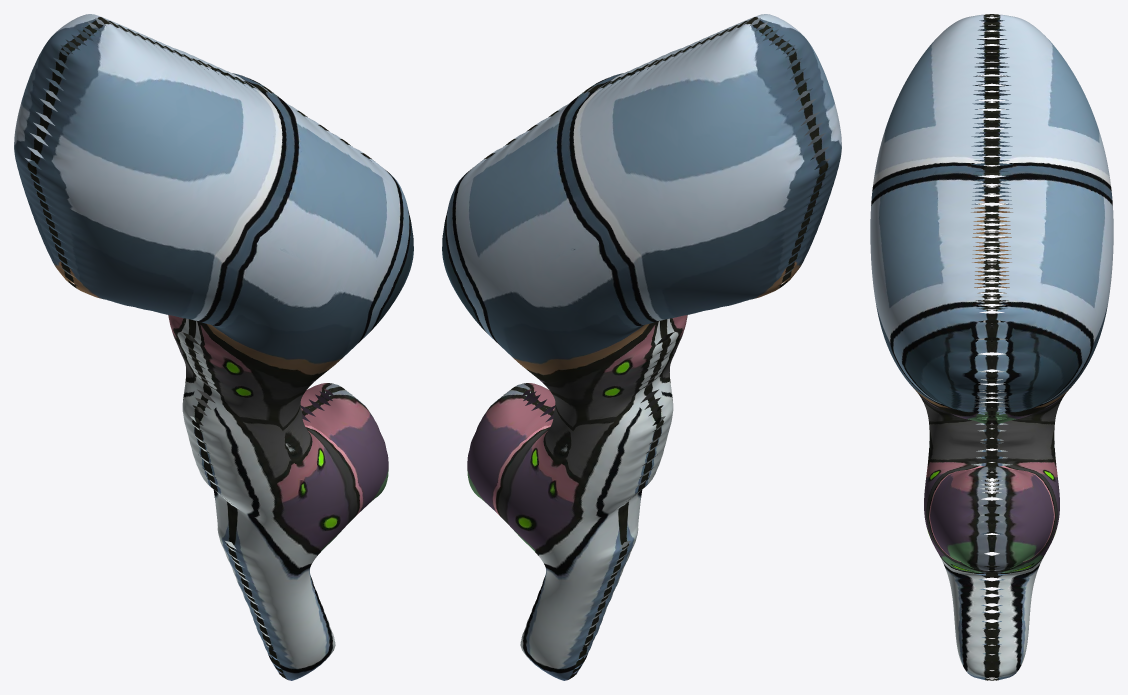
File: angled_fixture.glb
The picture shows the model from 3 angles, left to right: view 1: azimuth 30°, elevation 25°; view 2: azimuth 150°, elevation 25°; view 3: azimuth 270°, elevation 25°; orthographic projection. The views are drawn at different scales.
Visible parts, largest first — view 1: angled_fixture; view 2: angled_fixture; view 3: angled_fixture.
Boxes of the visible parts, box(x1,y1,x2,y2) form: angled_fixture: box(14, 14, 413, 680); angled_fixture: box(442, 14, 841, 680); angled_fixture: box(870, 14, 1113, 680).
Size of the model in its own units: 0.9796 by 1.8 by 0.671.
1 material, 1 textured.
